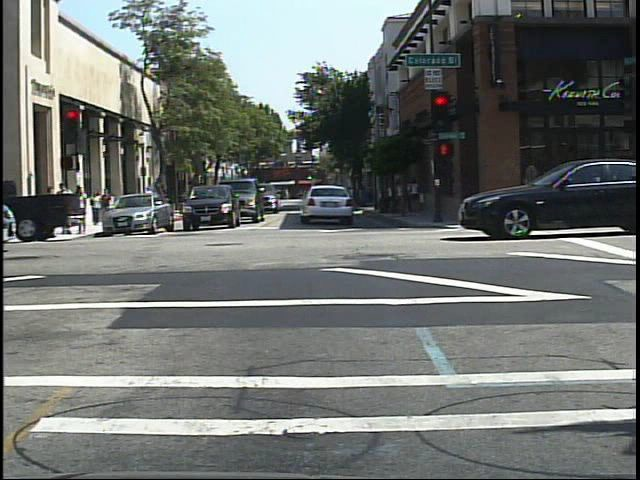person: (153, 180, 171, 217), (141, 184, 159, 215), (93, 188, 103, 228)
